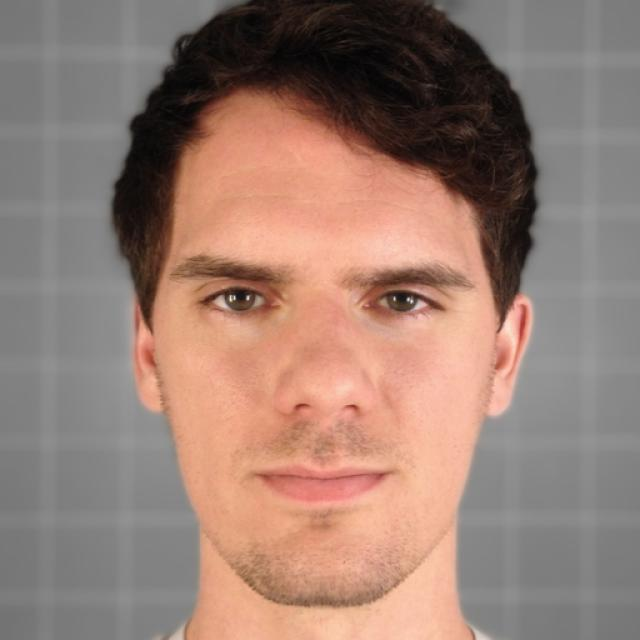neutral: (157, 79, 491, 609)
